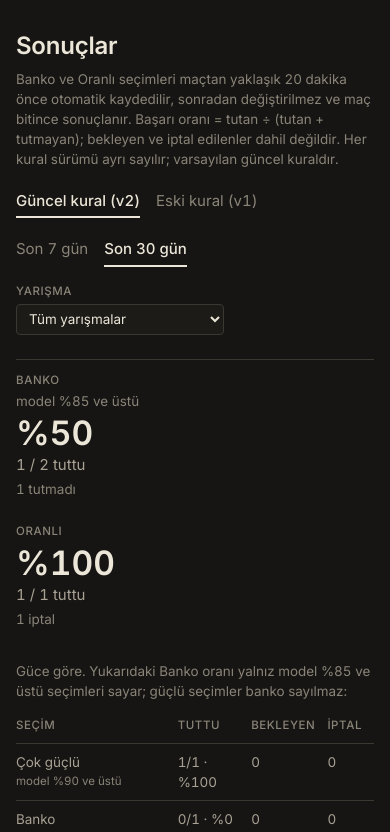
Results page › a failed switch shows the error, not the previous version with a false warning
Expected: the element named "Banko başarı oranı" is shown, [16, 373, 139, 497]
Click the button "Eski kural (v1)" at {"x": 207, "y": 202}, box [156, 186, 258, 218]
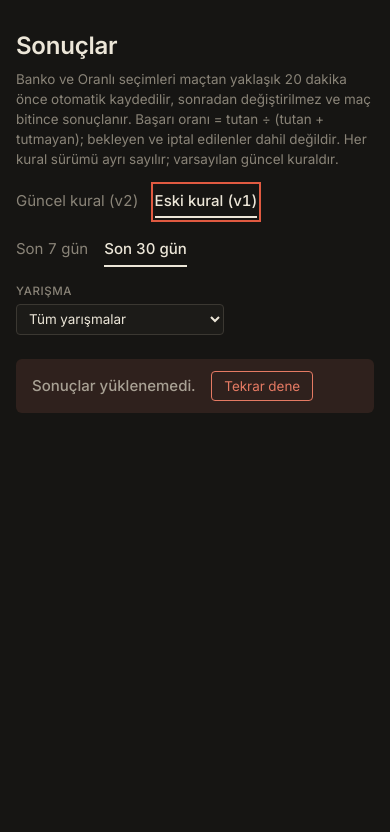
Result: the message "Sonuçlar yüklenemedi. Tekrar dene" is shown at [16, 359, 374, 413]
Result: the text "1 / 2 tuttu" is gone
